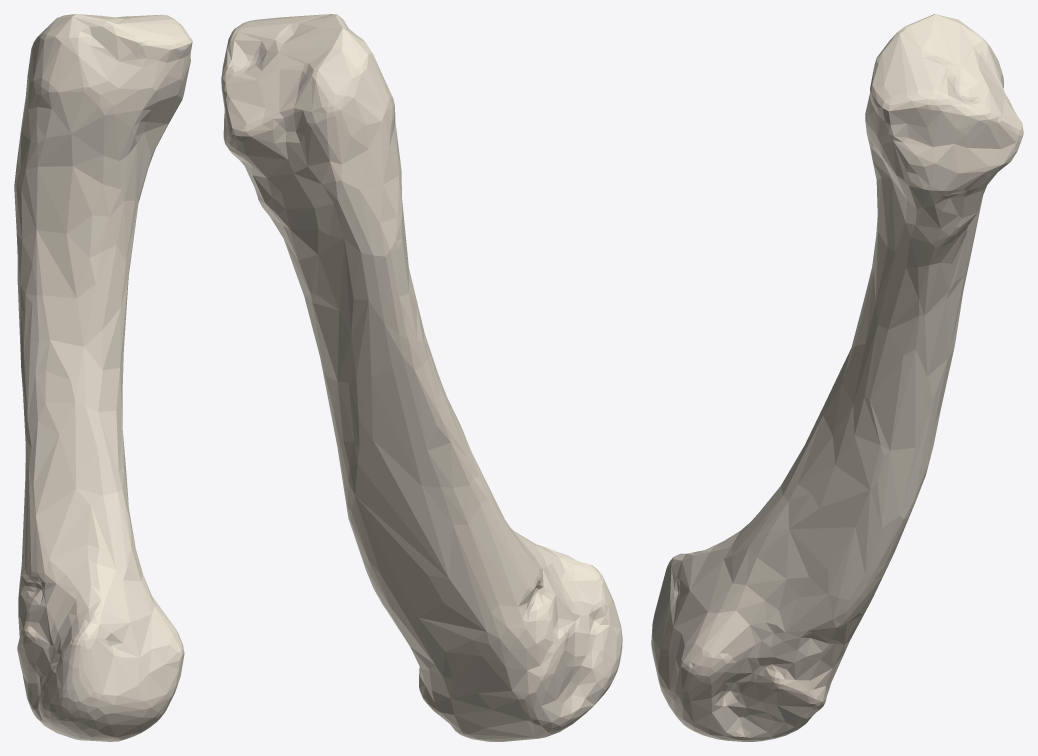
The model's file is left_metacarpal_5.glb.
3 renders of one model, left to right at view 1: azimuth 30°, elevation 25°; view 2: azimuth 150°, elevation 25°; view 3: azimuth 270°, elevation 25°, orthographic. The views are drawn at different scales.
Parts seen in each view (by area): view 1: left_metacarpal_5; view 2: left_metacarpal_5; view 3: left_metacarpal_5.
Part boxes in pixels (box(x1,y1,x2,y2)): left_metacarpal_5: box(14, 14, 192, 741); left_metacarpal_5: box(221, 14, 622, 741); left_metacarpal_5: box(651, 14, 1023, 741).
Size of the model in its own units: 0.0203 by 0.0551 by 0.0247.
